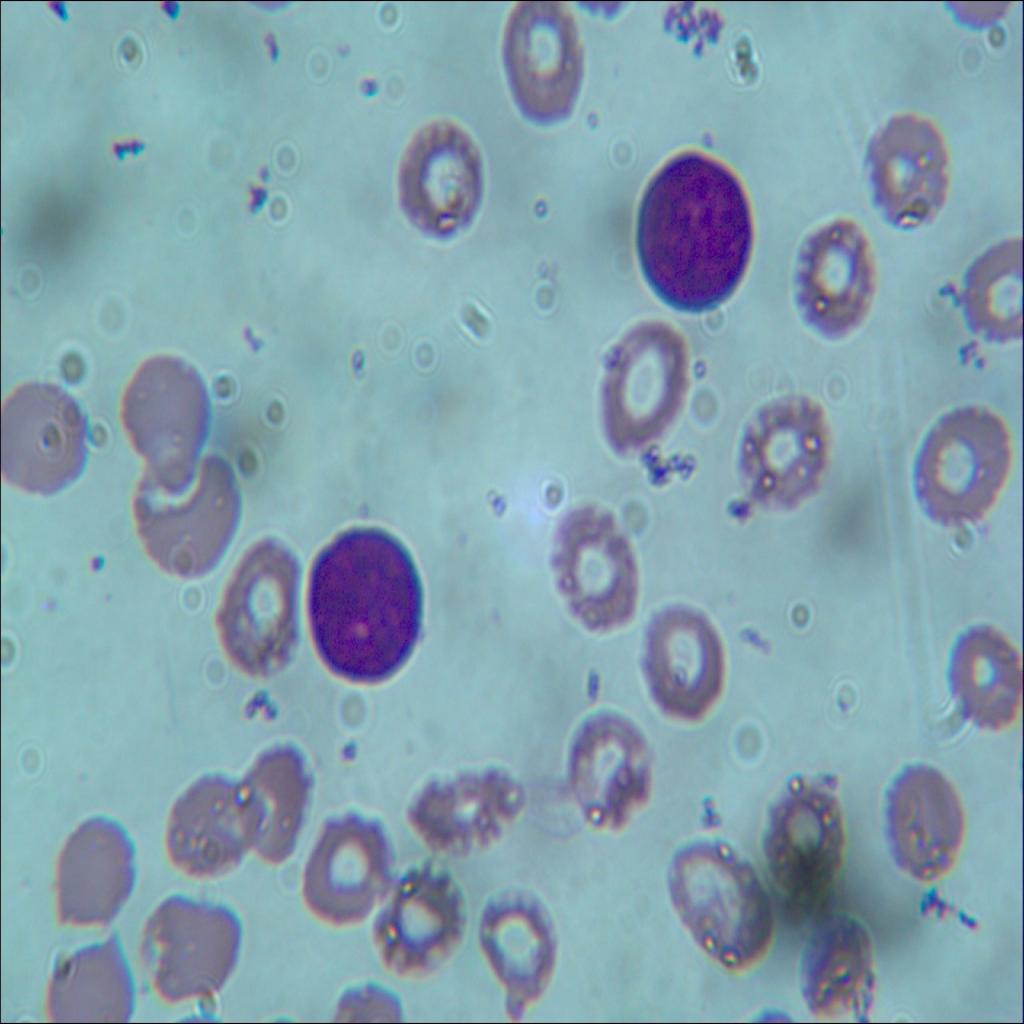Eritrosit: (203, 528, 303, 687), (914, 398, 1023, 537), (596, 318, 698, 457), (660, 842, 774, 965), (114, 352, 212, 491), (784, 211, 879, 352), (630, 602, 732, 732), (133, 458, 243, 575), (564, 695, 656, 834), (738, 394, 846, 511), (293, 801, 391, 928), (373, 865, 470, 991), (498, 0, 591, 131), (393, 116, 486, 246), (878, 760, 970, 888), (546, 514, 643, 634), (866, 114, 956, 241), (0, 377, 90, 501), (406, 760, 524, 854), (761, 778, 848, 904), (146, 897, 239, 1008), (478, 889, 561, 1011), (53, 817, 139, 930), (169, 776, 259, 881), (238, 744, 310, 868), (798, 912, 878, 1023), (43, 932, 138, 1023), (942, 624, 1020, 727), (963, 222, 1023, 348)
Limfoblast: (301, 525, 428, 684), (632, 154, 754, 314)
Platelet: (336, 727, 366, 782), (38, 577, 64, 616), (84, 538, 106, 584), (969, 344, 990, 376), (254, 144, 271, 177), (361, 67, 375, 95)
